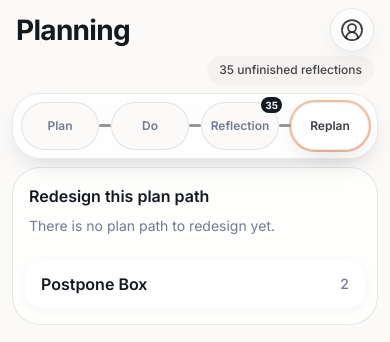
Replan page › opens the Postpone Box without a date field and groups items there
Later steps or results of the test are not shown.
What coordinates should you click on to do the following:
click the button with test id "replan-postpone"
I would click on:
 (94, 284)
Its box is [25, 260, 365, 308].
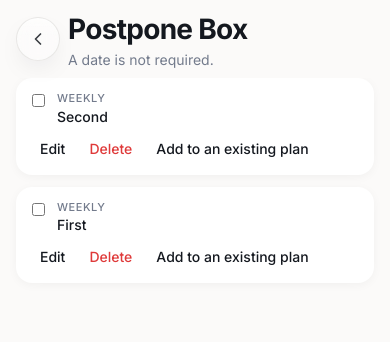
Expected: the heading "Postpone Box" is shown, [68, 8, 248, 50]
Expected: the text "A date is not required." is shown, [68, 51, 214, 68]
